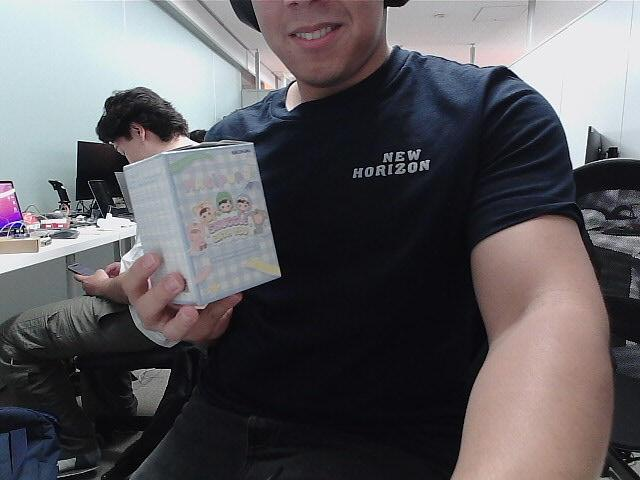Blind_box: (122, 145, 282, 310)
